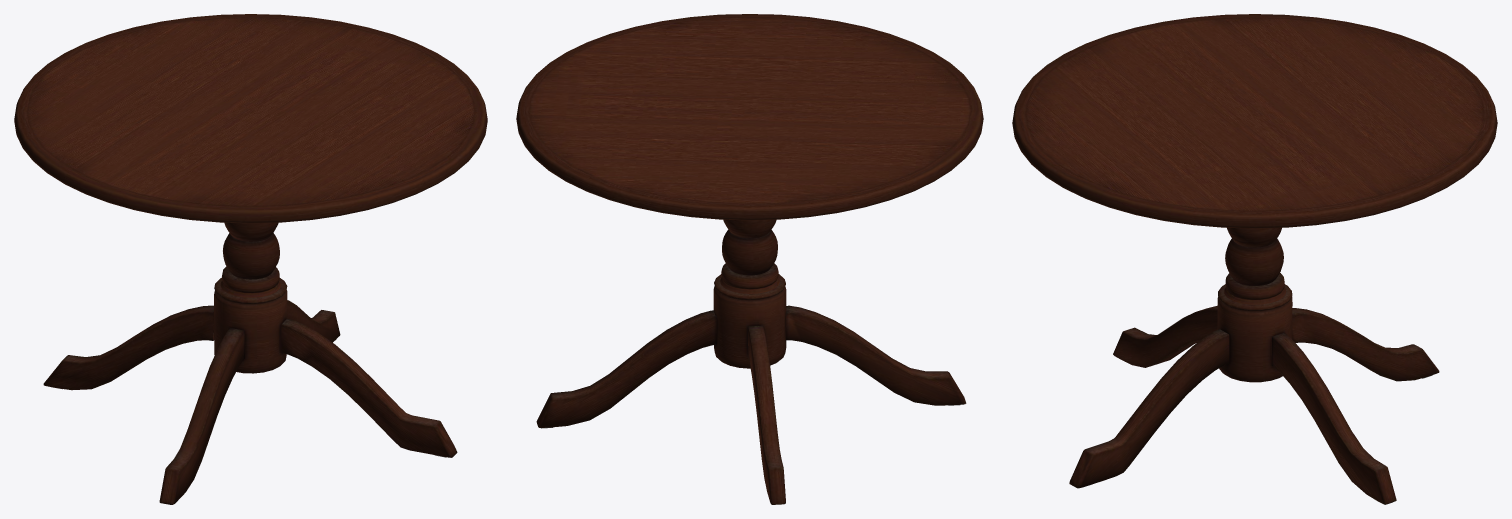
The model's file is round_wooden_table_01.glb.
The picture shows the model from 3 angles, left to right: view 1: azimuth 30°, elevation 25°; view 2: azimuth 150°, elevation 25°; view 3: azimuth 270°, elevation 25°; orthographic projection. The views are drawn at different scales.
Visible parts, largest first — view 1: round_wooden_table_01; view 2: round_wooden_table_01; view 3: round_wooden_table_01.
Boxes of the visible parts, x1,y1,x2,y2 form: round_wooden_table_01: [14, 14, 487, 504]; round_wooden_table_01: [516, 14, 983, 504]; round_wooden_table_01: [1012, 14, 1497, 504].
Size of the model in its own units: 1.4 by 1 by 1.4.
1 material, 1 textured.
